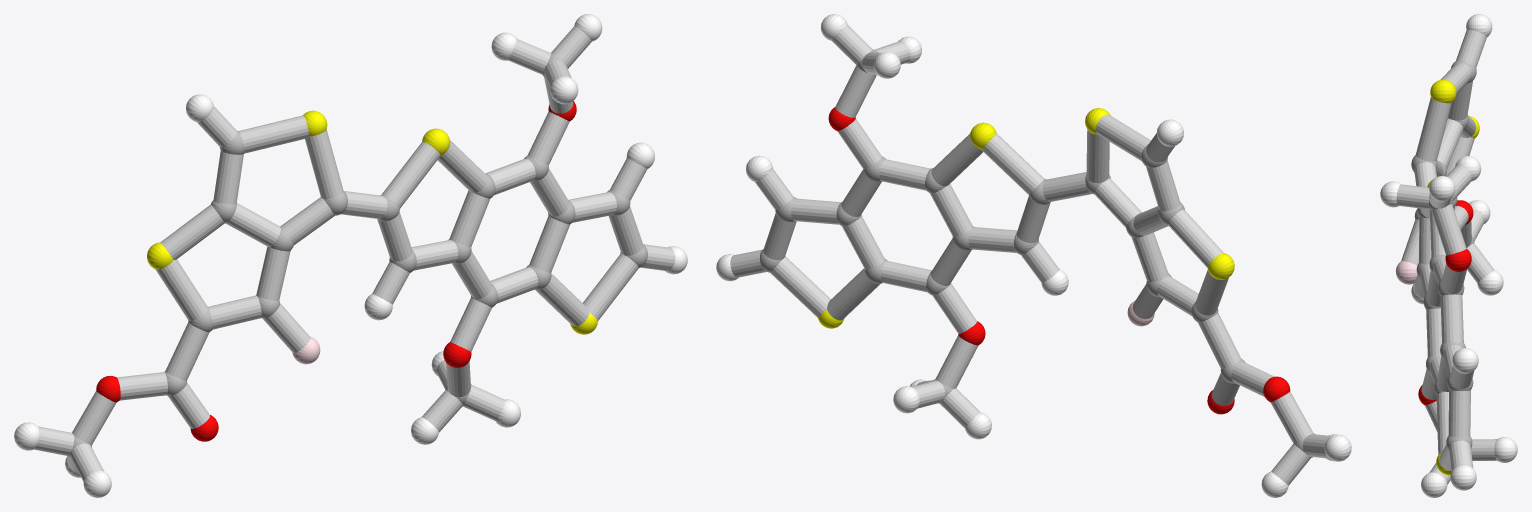
The model's file is color.glb.
The picture shows the model from 3 angles, left to right: view 1: azimuth 30°, elevation 25°; view 2: azimuth 150°, elevation 25°; view 3: azimuth 270°, elevation 25°; orthographic projection. The views are drawn at different scales.
Parts seen in each view (by area): view 1: grp15205, grp8689, grp1, grp7241, grp13395; view 2: grp15205, grp8689, grp1, grp7241, grp13395; view 3: grp15205, grp8689, grp1, grp13395, grp7241, grp14843.
Boxes of the visible parts, x1,y1,x2,y2 form: grp15205: (34, 26, 675, 481); grp8689: (14, 14, 687, 497); grp1: (68, 54, 647, 457); grp7241: (147, 110, 597, 334); grp13395: (96, 101, 576, 441); grp15205: (730, 25, 1330, 485); grp8689: (716, 14, 1351, 497); grp1: (760, 49, 1314, 457); grp7241: (818, 108, 1234, 328); grp13395: (828, 107, 1290, 414); grp15205: (1396, 29, 1496, 484); grp8689: (1380, 14, 1517, 497); grp1: (1411, 60, 1476, 450); grp13395: (1418, 200, 1473, 405); grp7241: (1427, 79, 1479, 475); grp14843: (1395, 261, 1417, 284).
Bounding box in the file's own units: 16.18 × 9.22 × 3.14.
